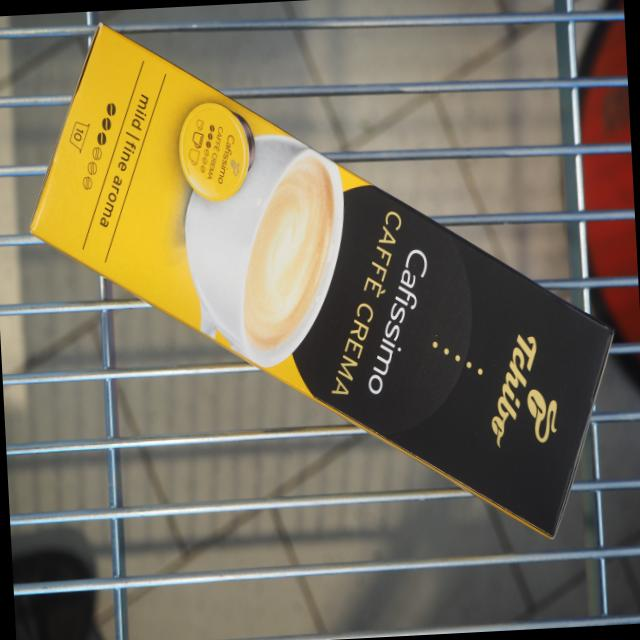Simo CCMild bigpack: (24, 19, 620, 546)
